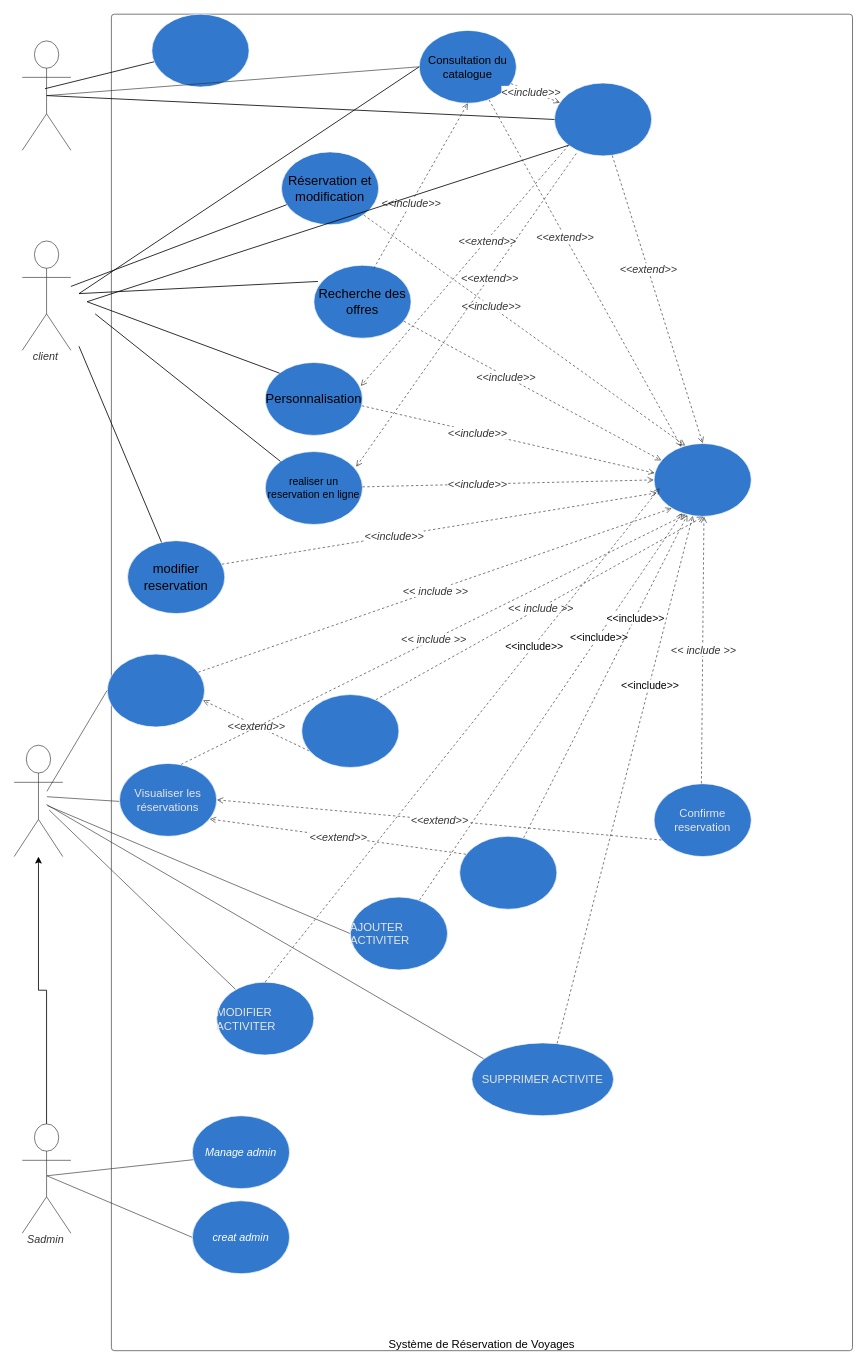
Image size: 867x1365. Some labels were removed from this diagram. Each missing label, with the centre of its shape:
admin: point (38, 800)
annuller reservation: point (508, 872)
Archivé/ bannir user: point (350, 730)
Authentifié: point (702, 479)
consulter les détails de chaque activité.: point (603, 119)
consulter users: point (155, 690)
s incrire: point (200, 50)
visiteur: point (46, 95)
